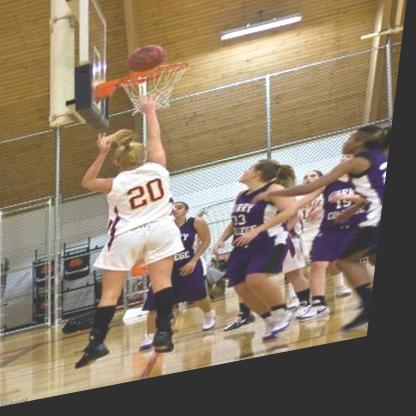basketball: (133, 48, 171, 81)
